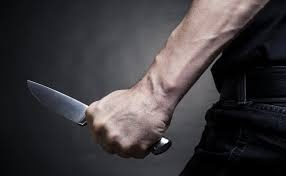knife: (27, 79, 172, 155)
